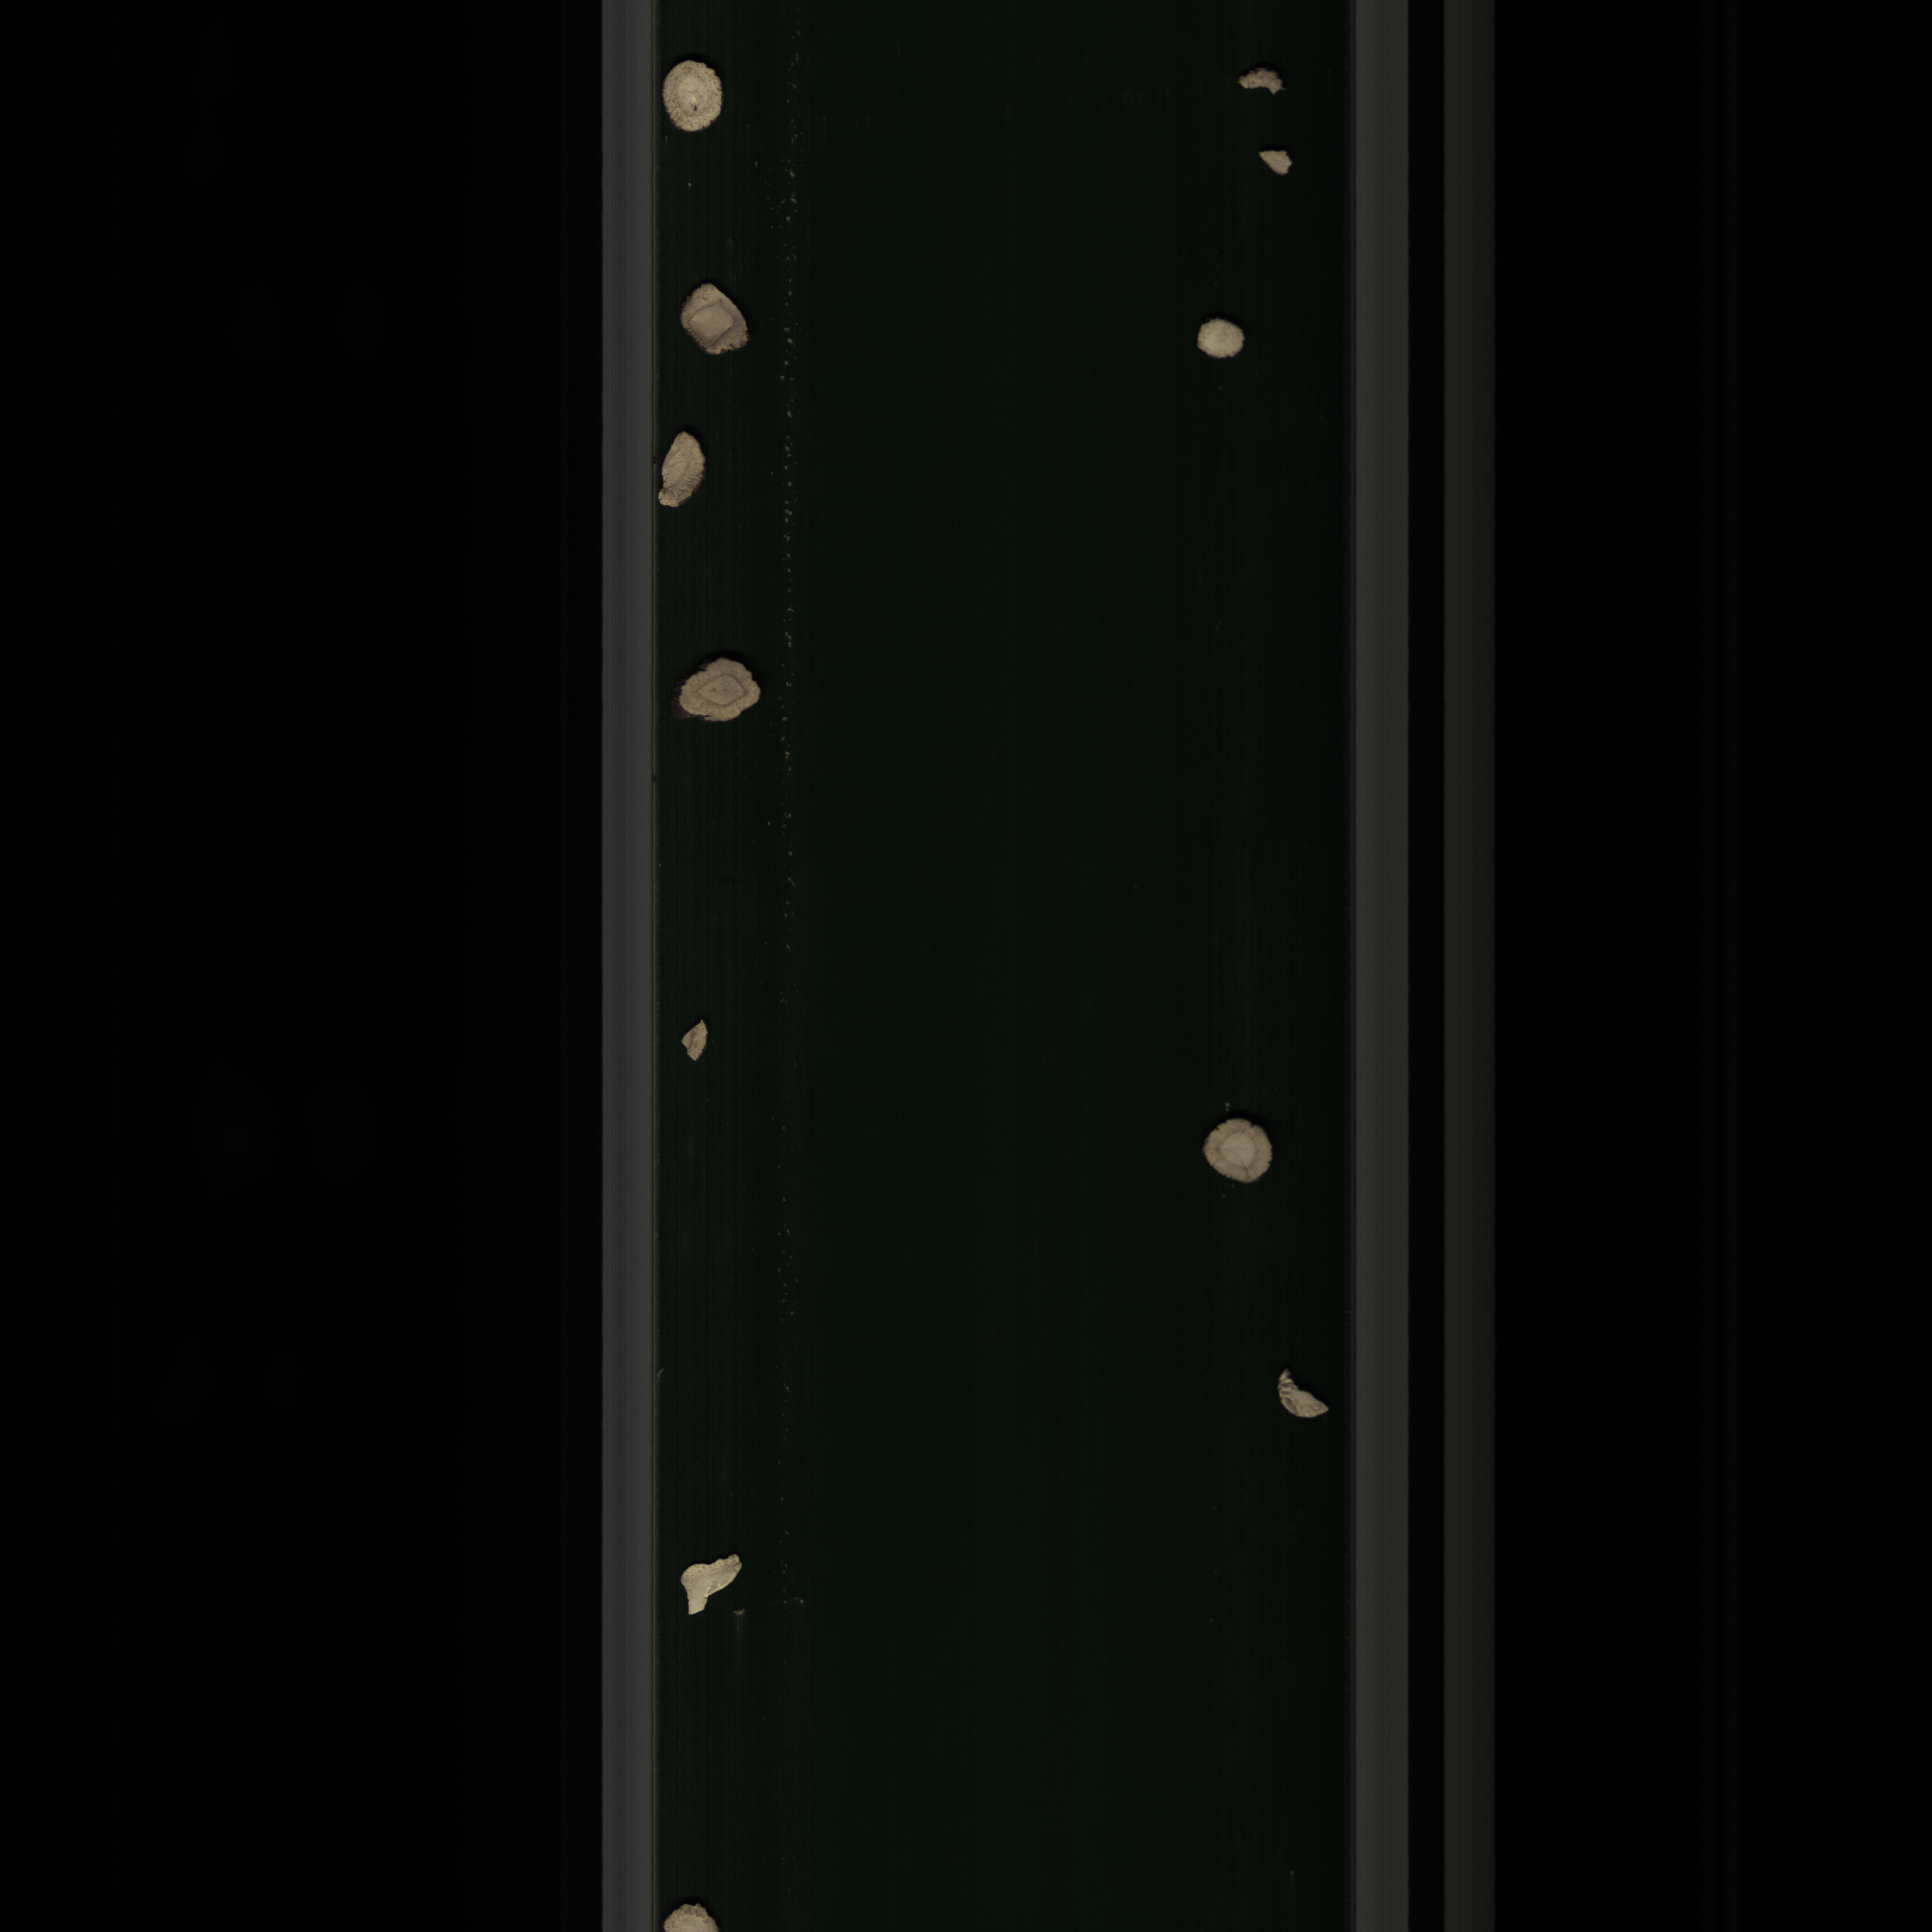bark: (672, 1014, 715, 1074), (1231, 65, 1292, 101)
debris: (669, 1550, 752, 1628), (658, 428, 706, 522), (1270, 1369, 1329, 1419), (1249, 140, 1297, 182)
